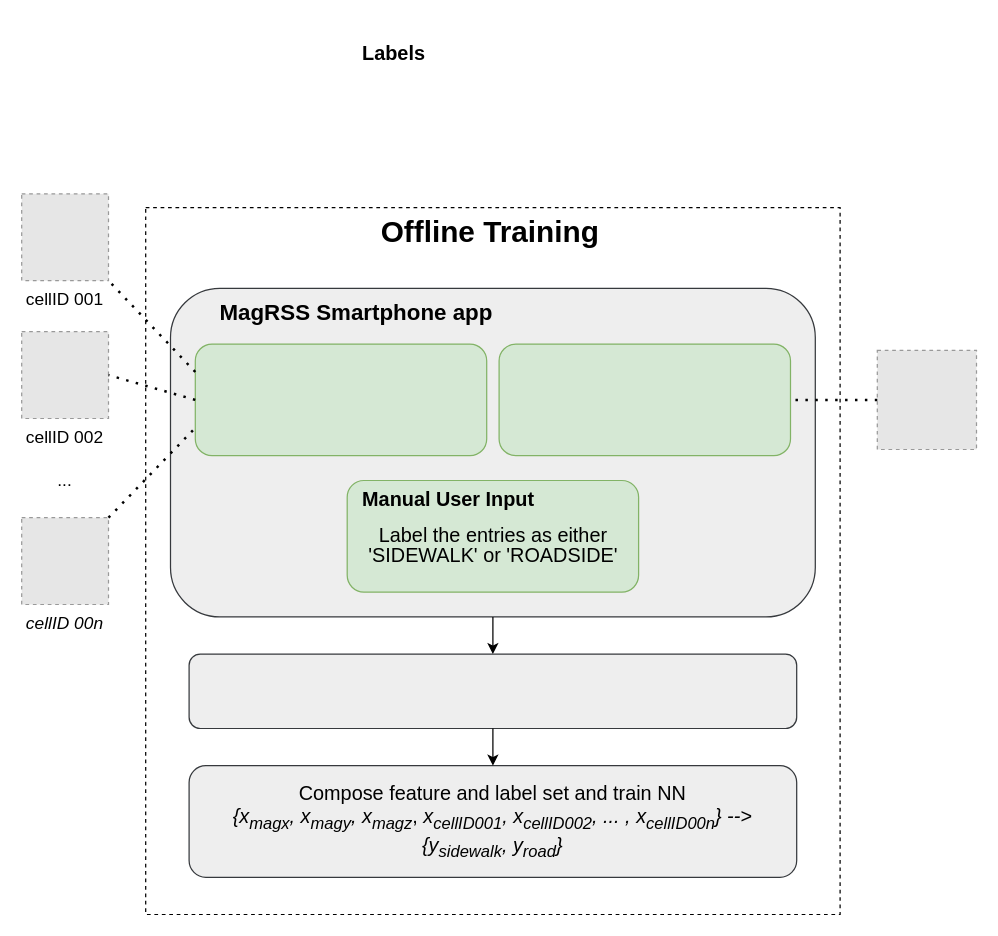
Image size: 998x936. Some labels were removed from this diagram. Grey dashed boxes stand in for pictures. Here are the shapes that lost their labels. From the top down, the box of each, then its label:
(194, 343, 487, 456): Collect network access point cellID Received Signal Strength (RSS) in dBm
(498, 343, 790, 456): Collect Earth's geomagnetic field intensity in μT
(188, 653, 797, 728): Data pre-processing and cleanup, Pandas (python) Dataframes creation
